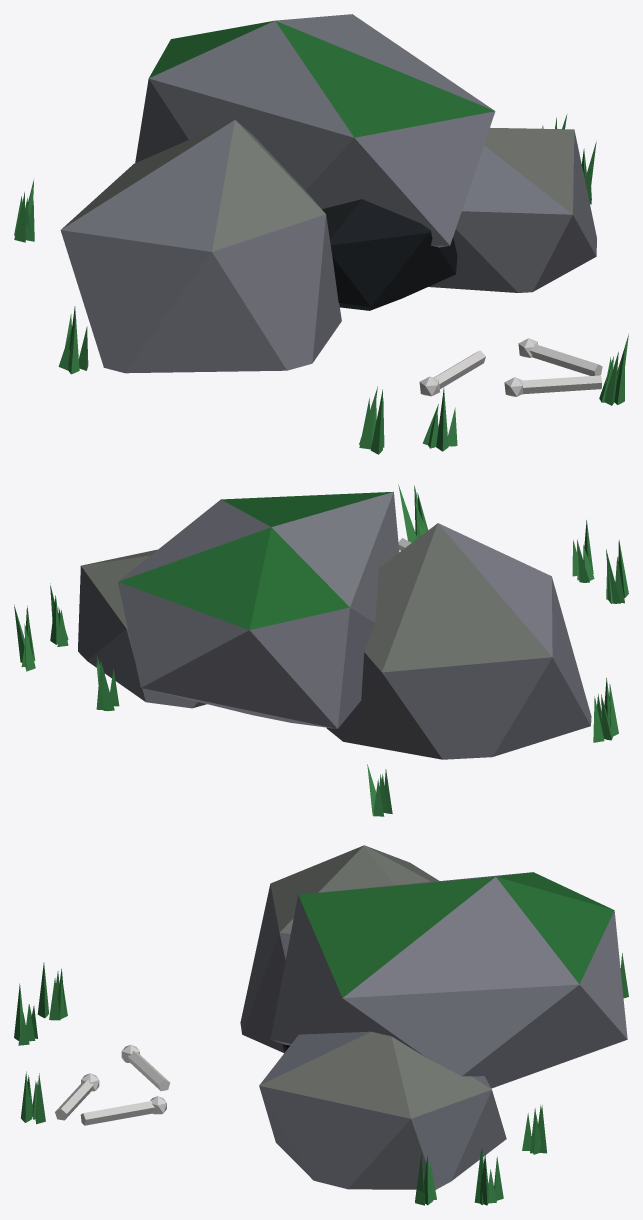
The model's file is lair-den.glb.
The picture shows the model from 3 angles, top to bottom: view 1: azimuth 30°, elevation 25°; view 2: azimuth 150°, elevation 25°; view 3: azimuth 270°, elevation 25°; orthographic projection. The views are drawn at different scales.
Visible parts, largest first — view 1: lair-den; view 2: lair-den; view 3: lair-den.
Boxes of the visible parts, x1,y1,x2,y2 form: lair-den: (14, 14, 628, 454); lair-den: (14, 484, 628, 816); lair-den: (14, 845, 628, 1205).
Bounding box in the file's own units: 4.6 × 1.66 × 4.55.
